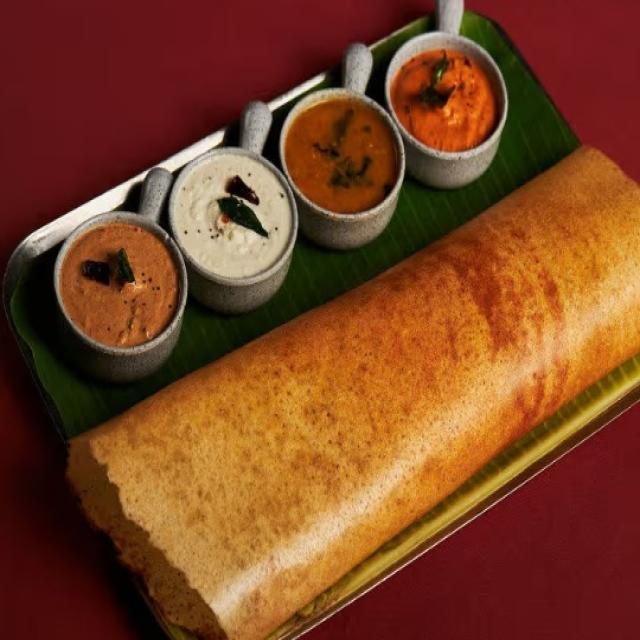DOSA: (66, 145, 639, 639)
RED CHUTNEY: (63, 223, 175, 343), (401, 57, 492, 143)
SAMBAR: (288, 104, 392, 212)
WHITE CHUTNEY: (178, 153, 288, 266)
